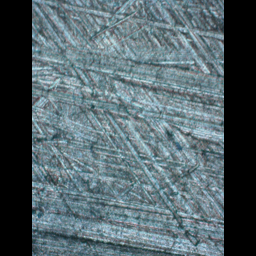d: (32, 31, 223, 145), (32, 181, 224, 256)
